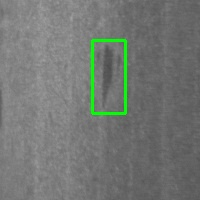inclusion: (92, 40, 125, 113)
